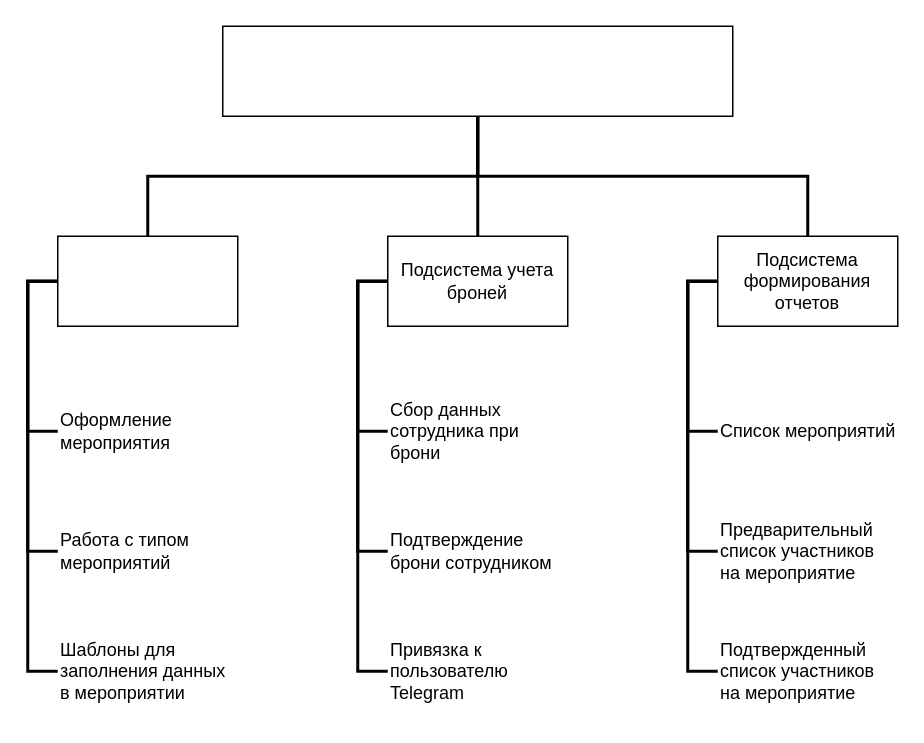
The diagram is 924 pixels wide and 743 high, and some of its shapes have lost their labels. The centre of each missing label's shape, as x and y in pixels:
"Информационная система" belongs at pixel 477 70.
"Подсистема учета мероприятий" belongs at pixel 147 280.
